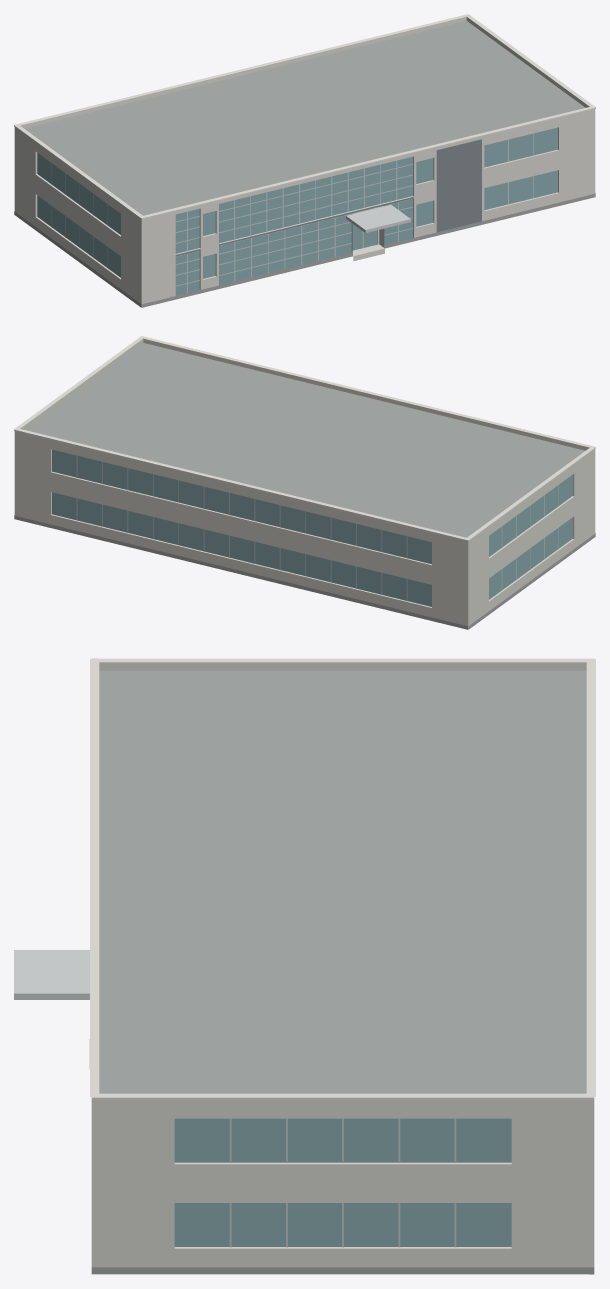
3 views of the same model, one above another, from view 1: azimuth 30°, elevation 25°; view 2: azimuth 150°, elevation 25°; view 3: azimuth 270°, elevation 25° (orthographic). The views are drawn at different scales.
Visible parts, largest first — view 1: b115951801__roof, b115951801__glass, b115951801__wall, b115951801__parapet, b115951801__trim, b115951801__wall2, b115951801__frame, b115951801__base, b115951801__canopy, b115951801__spandrel; view 2: b115951801__roof, b115951801__wall, b115951801__glass, b115951801__parapet, b115951801__trim, b115951801__base, b115951801__frame; view 3: b115951801__roof, b115951801__wall, b115951801__glass, b115951801__trim, b115951801__parapet, b115951801__base, b115951801__canopy, b115951801__frame.
Part boxes in pixels (x1,y1,x2,y2): b115951801__roof: [24, 21, 585, 307]; b115951801__glass: [37, 127, 557, 295]; b115951801__wall: [14, 111, 595, 307]; b115951801__parapet: [14, 16, 595, 221]; b115951801__trim: [14, 14, 595, 219]; b115951801__wall2: [436, 139, 481, 232]; b115951801__frame: [51, 133, 533, 293]; b115951801__base: [14, 193, 595, 307]; b115951801__canopy: [346, 205, 410, 232]; b115951801__spandrel: [175, 197, 413, 256]; b115951801__roof: [24, 343, 585, 629]; b115951801__wall: [14, 433, 595, 629]; b115951801__glass: [52, 449, 572, 606]; b115951801__parapet: [14, 338, 595, 543]; b115951801__trim: [14, 336, 595, 541]; b115951801__base: [14, 515, 595, 629]; b115951801__frame: [76, 455, 558, 601]; b115951801__roof: [99, 670, 593, 1274]; b115951801__wall: [91, 1105, 594, 1267]; b115951801__glass: [174, 1118, 511, 1246]; b115951801__trim: [90, 658, 595, 1099]; b115951801__parapet: [91, 662, 594, 1104]; b115951801__base: [91, 1267, 594, 1274]; b115951801__canopy: [14, 950, 89, 999]; b115951801__frame: [229, 1118, 456, 1247].
Size of the model in its own units: 40.12 by 7.95 by 22.48.
